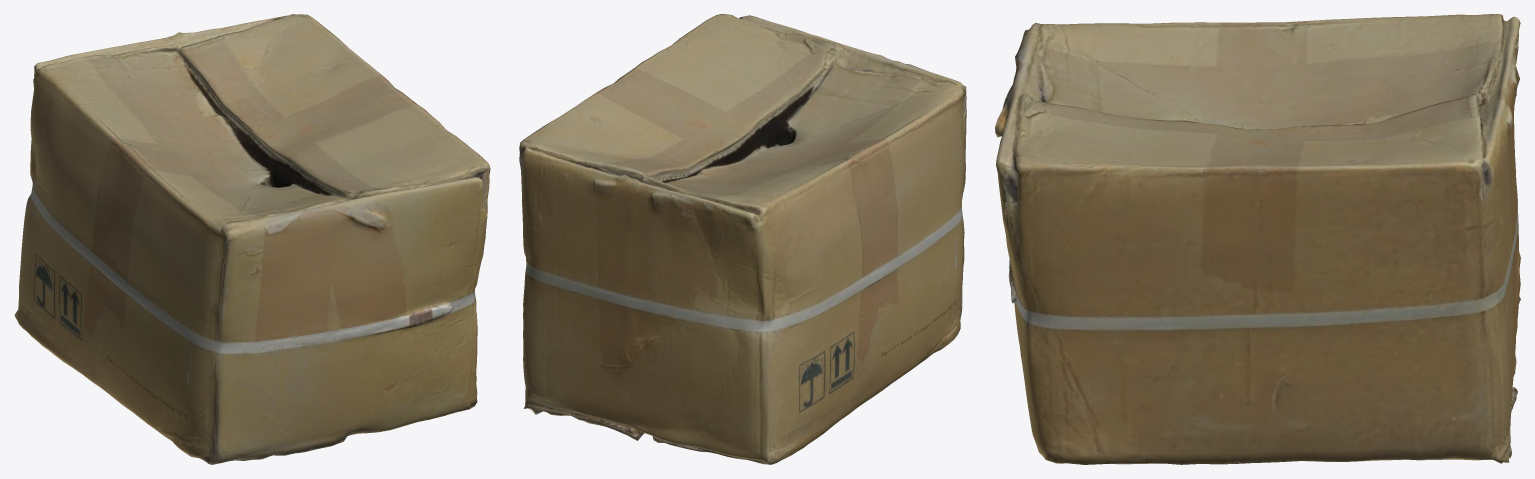
File: cardboard_box_01.glb
3 renders of one model, left to right at view 1: azimuth 30°, elevation 25°; view 2: azimuth 150°, elevation 25°; view 3: azimuth 270°, elevation 25°, orthographic. The views are drawn at different scales.
Parts seen in each view (by area): view 1: cardboard_box_01; view 2: cardboard_box_01; view 3: cardboard_box_01.
Part boxes in pixels (left/top/right/bottom): cardboard_box_01: left=14, top=14, right=490, bottom=464; cardboard_box_01: left=519, top=14, right=966, bottom=464; cardboard_box_01: left=995, top=14, right=1520, bottom=464.
Bounding box in the file's own units: 0.387 × 0.3418 × 0.5159.
Materials: 1 (1 with a texture image).
